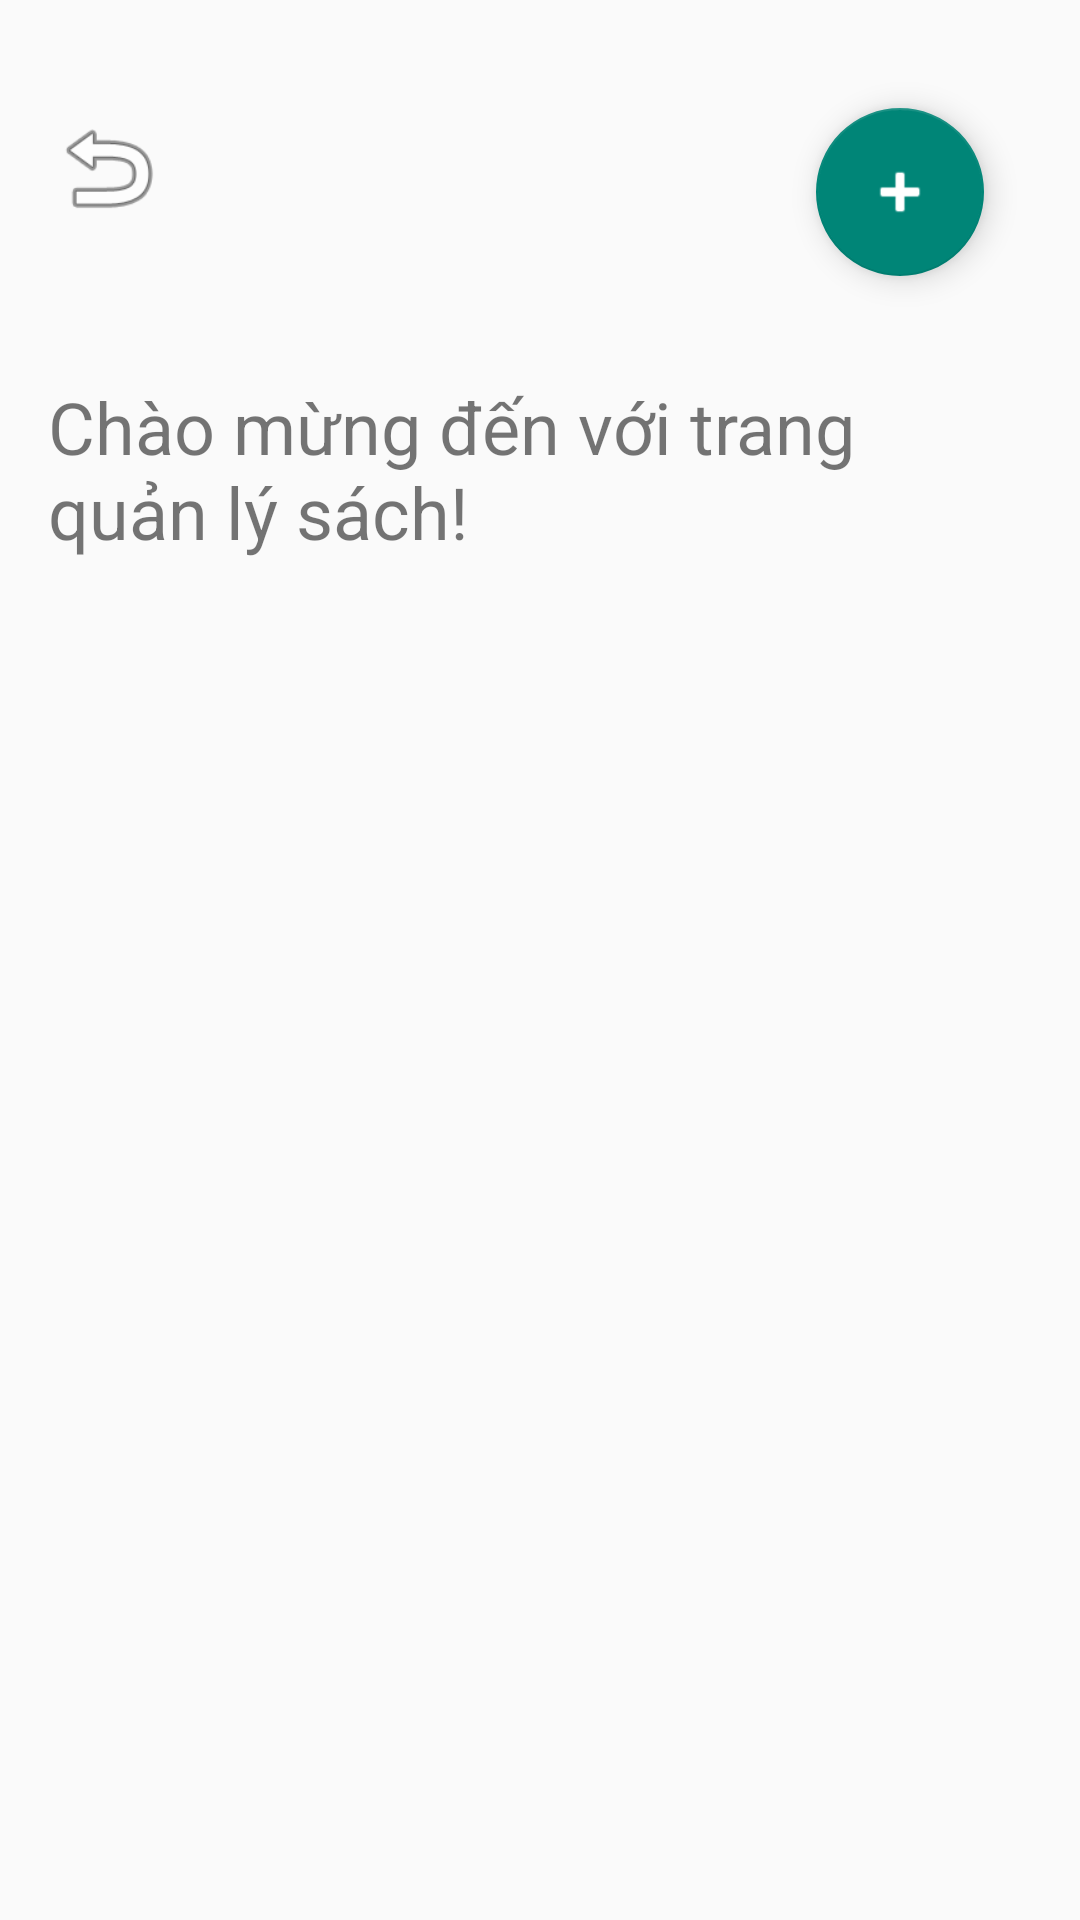

Named icons in this screenshot (1080*1920) and their centers, (x=x, y=y):
revert: (x=109, y=169)
Thêm sách: (x=900, y=192)
